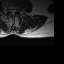CCS_normal: (12, 7, 14, 17)
LFS_stenosis: (16, 7, 19, 13)
LLS_stenosis: (14, 7, 16, 14)
RFS_stenosis: (8, 6, 10, 13)
RLS_normal: (10, 7, 12, 14)
